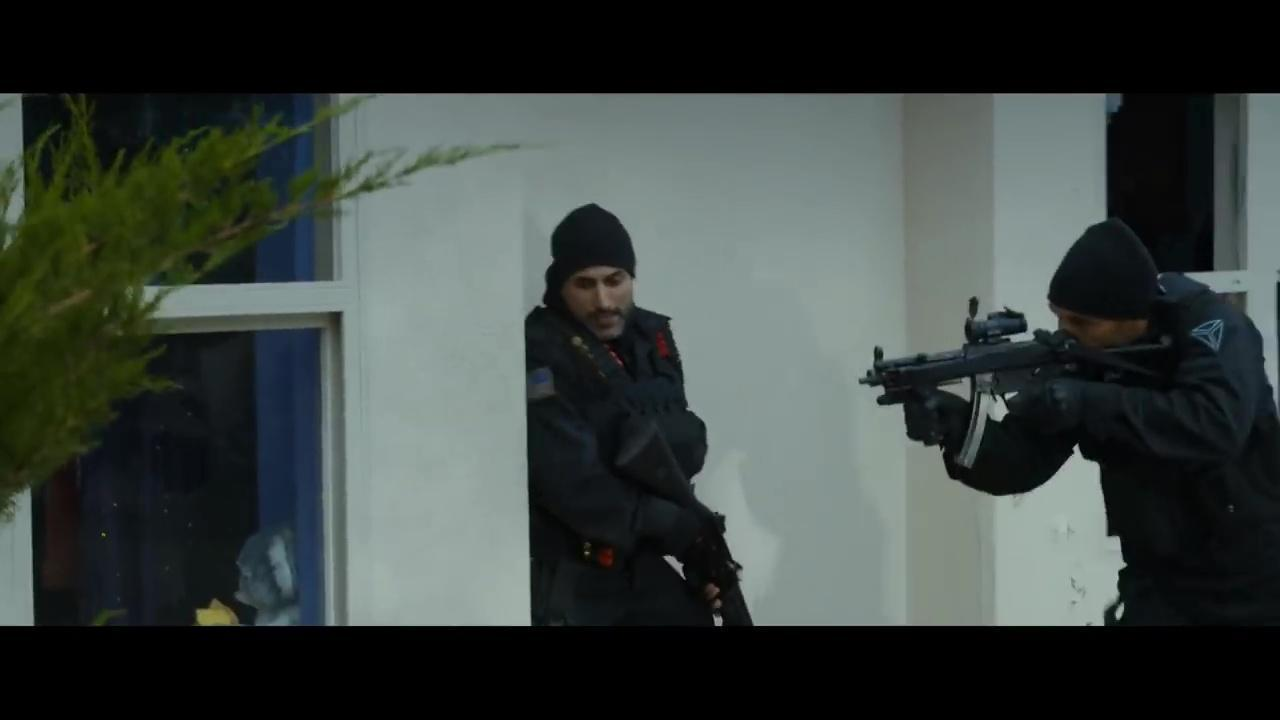Gun: (852, 293, 1173, 475), (606, 416, 787, 627)
